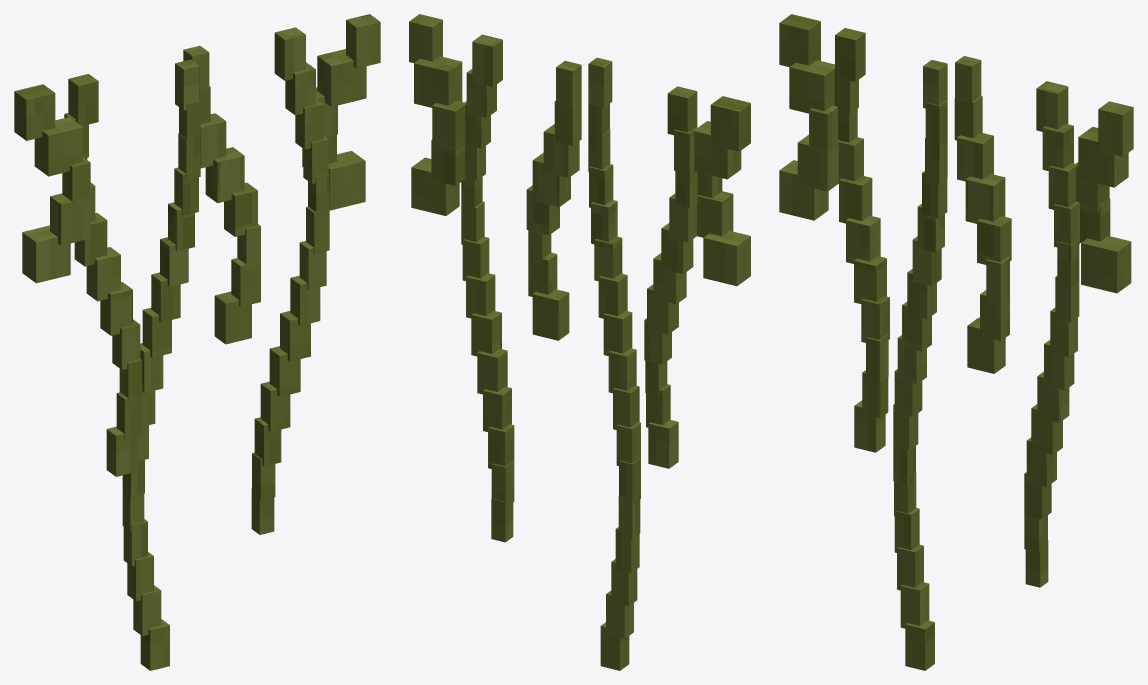
Rendered from Trailing-stems.glb.
3 views of the same model, side by side, from view 1: azimuth 30°, elevation 25°; view 2: azimuth 150°, elevation 25°; view 3: azimuth 330°, elevation 25° (orthographic). The views are drawn at different scales.
Parts seen in each view (by area): view 1: Trailing-stems; view 2: Trailing-stems; view 3: Trailing-stems.
Part boxes in pixels (<box>): Trailing-stems: <box>14,14,380,670</box>; Trailing-stems: <box>409,14,750,670</box>; Trailing-stems: <box>779,14,1133,670</box>.
Bounding box in the file's own units: 0.6826 × 1.13 × 0.071.
Materials: 1 (1 with a texture image).
